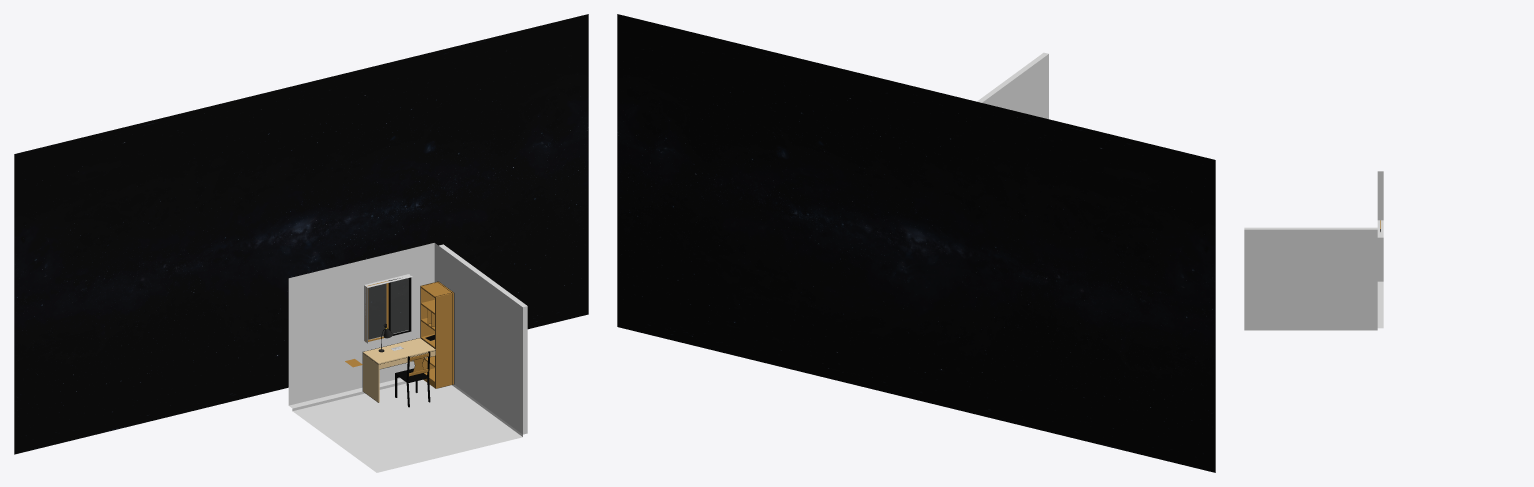
File: EscenaMainNoLightTest4.glb
3 views of the same model, side by side, from view 1: azimuth 30°, elevation 25°; view 2: azimuth 150°, elevation 25°; view 3: azimuth 270°, elevation 25° (orthographic). The views are drawn at different scales.
Parts seen in each view (by area): view 1: FondoUniverso, ParedFront, Piso, ParedLat.001, Plane.003, Plane, Cristal1, Cristal2, CubeSilla, Plane.002; view 2: FondoUniverso, ParedLat.001; view 3: ParedLat.001, ParedFront.
Boxes of the visible parts, bbox=[...] form: FondoUniverso: bbox=[14, 14, 588, 454]; ParedFront: bbox=[288, 243, 438, 408]; Piso: bbox=[292, 379, 522, 472]; ParedLat.001: bbox=[438, 244, 527, 434]; Plane.003: bbox=[435, 292, 452, 388]; Plane: bbox=[362, 338, 435, 364]; Cristal1: bbox=[368, 284, 386, 339]; Cristal2: bbox=[391, 278, 408, 333]; CubeSilla: bbox=[395, 351, 430, 407]; Plane.002: bbox=[362, 353, 379, 402]; FondoUniverso: bbox=[617, 14, 1215, 472]; ParedLat.001: bbox=[977, 52, 1048, 119]; ParedLat.001: bbox=[1244, 227, 1377, 330]; ParedFront: bbox=[1377, 171, 1383, 328].
Bounding box in the file's own units: 11.8 × 5.9 × 6.2.
9 materials, 2 textured.
